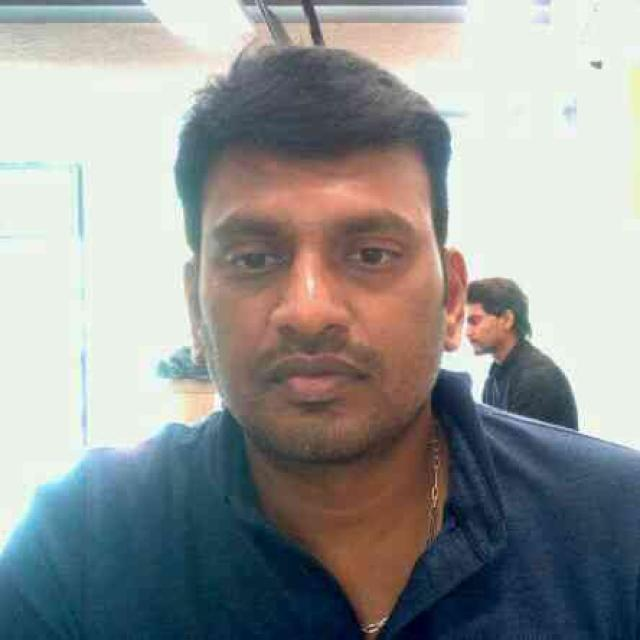puffy_eyes: (336, 263, 404, 292)
